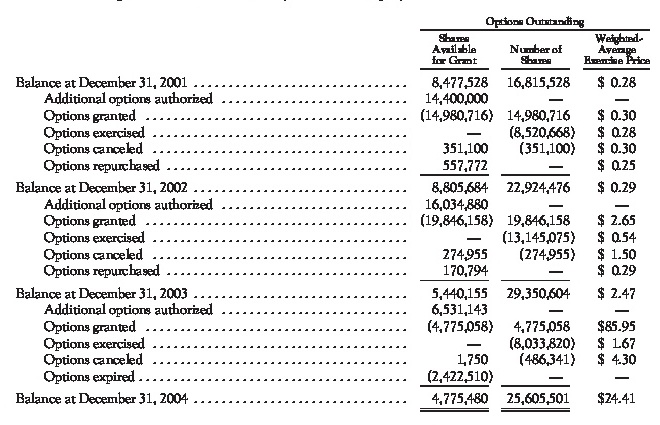table: (0, 0, 660, 425)
